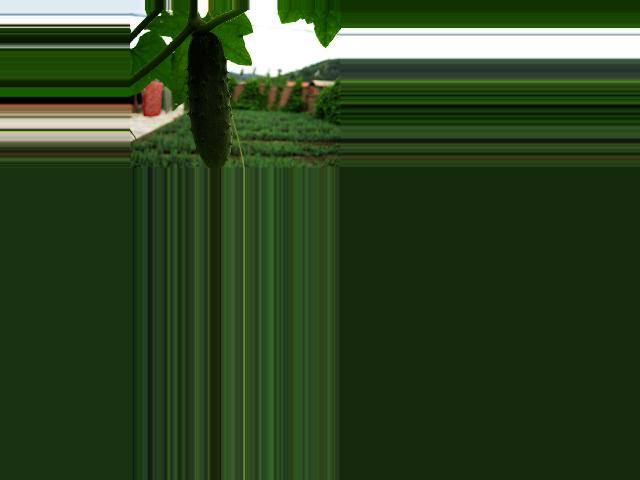cucumber: (187, 32, 231, 169)
